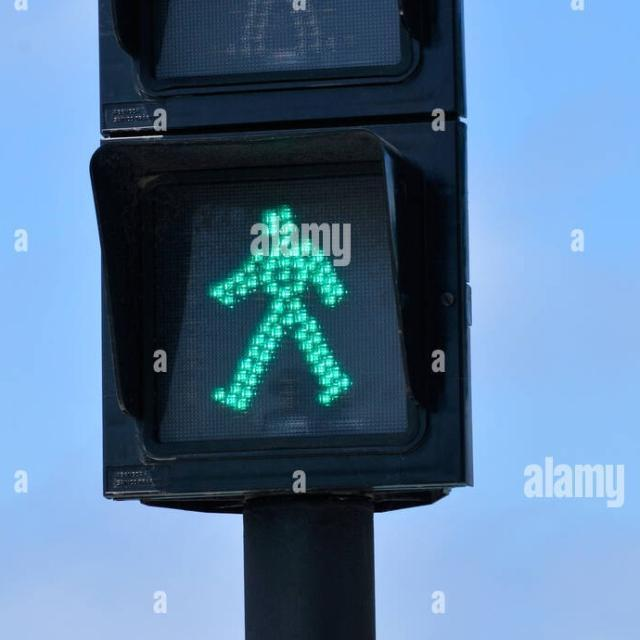geen-crossing: (205, 181, 368, 430)
